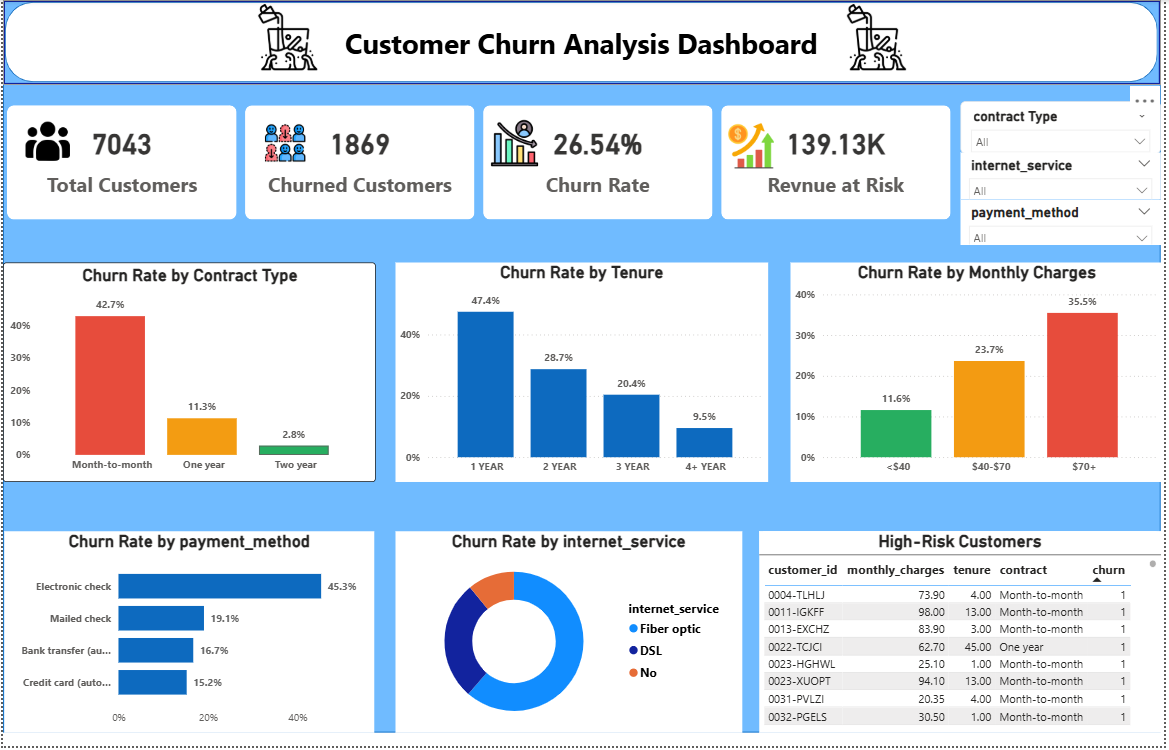

Layout of this report page (visuals, bound fields, positions):
{"tool":"powerbi","page":{"name":"Page 1","canvas":[1400,900],"ordinal":0},"visuals":[{"type":"shape","box":[0,0,1396.5,883.7],"z":0},{"type":"cardVisual","fields":{"Data":["fact_churn.Total Customers","fact_churn.Churned Customers","fact_churn.Churn Rate","Measures Table.Revnue at Risk"]},"box":[0,121.5,1150.4,148.3],"z":1000},{"type":"slicer","fields":{"Values":["dim_contract.contract"]},"box":[1155.1,121.5,241.4,63.1],"z":2000},{"type":"slicer","fields":{"Values":["dim_service.internet_service"]},"box":[1155.1,184.6,241.4,56.8],"z":3000},{"type":"slicer","fields":{"Values":["dim_contract.payment_method"]},"box":[1155.1,241.4,241.4,53.7],"z":4000},{"type":"shape","box":[0,0,1396.5,102.6],"z":5000},{"type":"clusteredBarChart","fields":{"Y":["fact_churn.Churn Rate"],"Category":["dim_contract.payment_method"]},"box":[1.6,640.7,446.6,243],"z":6000},{"type":"clusteredColumnChart","title":"Churn Rate  by Contract Type","fields":{"Category":["dim_contract.contract"],"Y":["fact_churn.Churn Rate"]},"box":[0,317.2,449.7,265.1],"z":7000},{"type":"donutChart","fields":{"Category":["dim_service.internet_service"],"Y":["fact_churn.Churn Rate"]},"box":[473.4,640.7,418.2,243],"z":8000},{"type":"clusteredColumnChart","title":"Churn Rate by Tenure","fields":{"Y":["fact_churn.Churn Rate"],"Category":["fact_churn.Tenure Group"]},"box":[473.4,317.2,449.7,265.1],"z":9000},{"type":"tableEx","title":"High-Risk Customers","fields":{"Values":["dim_customer.customer_id","fact_churn.monthly_charges","fact_churn.tenure","dim_contract.contract","fact_churn.churn"]},"box":[912.1,640.7,484.5,243],"z":10000},{"type":"clusteredColumnChart","title":"Churn Rate by Monthly Charges","fields":{"Y":["fact_churn.Churn Rate"],"Category":["fact_churn.Charge Segment"]},"box":[950,317.2,449.7,265.1],"z":11000},{"type":"image","box":[869.5,138.9,64.7,74.2],"z":12000},{"type":"image","box":[288.8,143.6,104.1,58.4],"z":13000},{"type":"image","box":[14.2,138.9,80.5,63.1],"z":14000},{"type":"image","box":[576,138.9,82.1,67.9],"z":15000},{"type":"image","box":[293.5,0,99.4,89.9],"z":15001},{"type":"image","box":[978.4,0,149.9,89.9],"z":15002}]}

Visuals, with their boxes in screenshot pixels (x1, y1, x2, y2), scaled from the page's 1400x900 canvas onto the 1169x750 screenshot:
shape: bbox=(0, 0, 1166, 736)
cardVisual - fact_churn.Total Customers x fact_churn.Churned Customers: bbox=(0, 101, 961, 225)
slicer - dim_contract.contract: bbox=(965, 101, 1166, 154)
slicer - dim_service.internet_service: bbox=(965, 154, 1166, 201)
slicer - dim_contract.payment_method: bbox=(965, 201, 1166, 246)
shape: bbox=(0, 0, 1166, 86)
clusteredBarChart - fact_churn.Churn Rate x dim_contract.payment_method: bbox=(1, 534, 374, 736)
"Churn Rate  by Contract Type" clusteredColumnChart: bbox=(0, 264, 375, 485)
donutChart - dim_service.internet_service x fact_churn.Churn Rate: bbox=(395, 534, 744, 736)
"Churn Rate by Tenure" clusteredColumnChart: bbox=(395, 264, 771, 485)
"High-Risk Customers" tableEx: bbox=(762, 534, 1166, 736)
"Churn Rate by Monthly Charges" clusteredColumnChart: bbox=(793, 264, 1168, 485)
image: bbox=(726, 116, 780, 178)
image: bbox=(241, 120, 328, 168)
image: bbox=(12, 116, 79, 168)
image: bbox=(481, 116, 550, 172)
image: bbox=(245, 0, 328, 75)
image: bbox=(817, 0, 942, 75)
